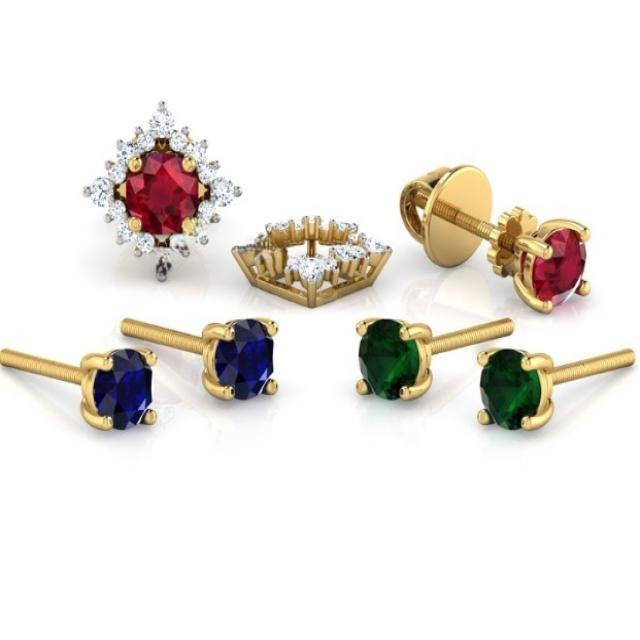missing gem: (234, 234, 281, 260), (152, 246, 174, 282), (170, 236, 191, 256)
